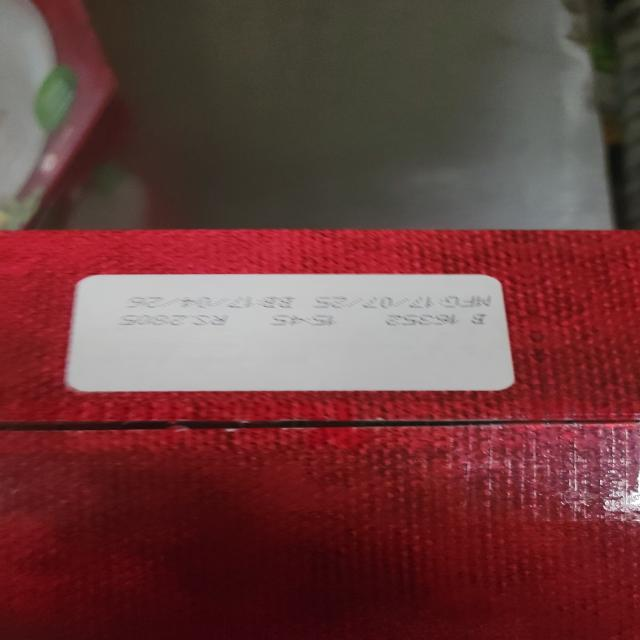BB: (125, 295, 297, 310), (116, 314, 231, 326)
Batch: (383, 313, 488, 327)
MFG: (313, 294, 492, 309)
TimeStamp: (268, 314, 340, 327)
